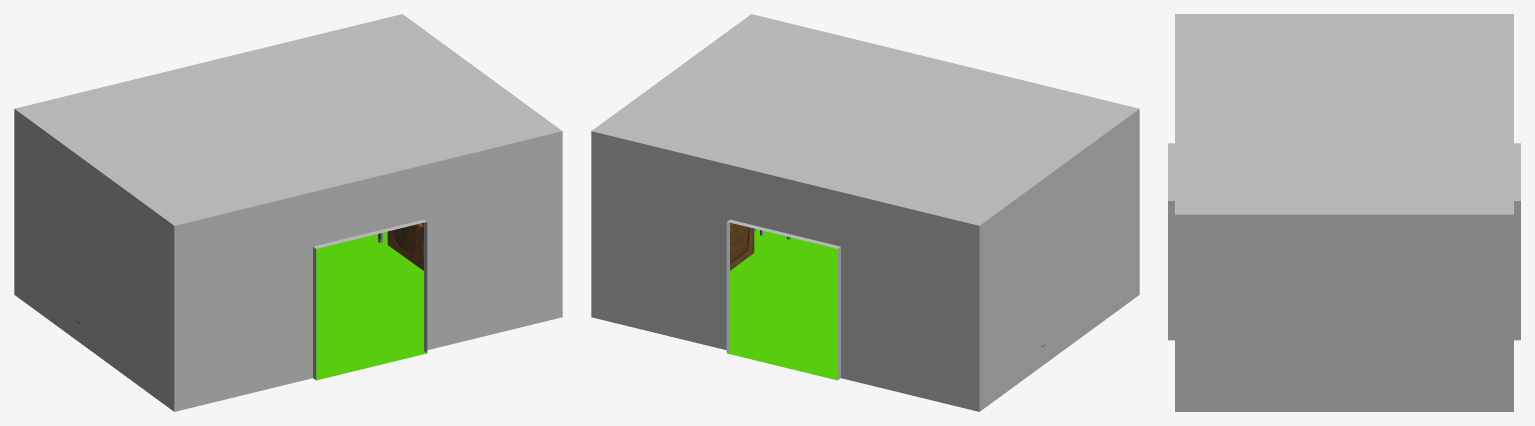
Rendered from roomsB6.fbx.
3 views of the same model, side by side, from view 1: azimuth 30°, elevation 25°; view 2: azimuth 150°, elevation 25°; view 3: azimuth 270°, elevation 25° (orthographic). The views are drawn at different scales.
Visible parts, largest first — view 1: Plane.021, Plane.019, Plane.020, Cube.242; view 2: Plane.021, Plane.019, Plane.020, Cube.242; view 3: Plane.021, Plane.019.
Boxes of the visible parts, box(x1,y1,x2,y2) form: Plane.021: box(14, 109, 562, 411); Plane.019: box(15, 14, 562, 225); Plane.020: box(316, 231, 426, 380); Cube.242: box(387, 222, 423, 270); Plane.021: box(591, 109, 1139, 411); Plane.019: box(591, 14, 1138, 225); Plane.020: box(727, 229, 837, 380); Cube.242: box(730, 222, 754, 270); Plane.021: box(1168, 143, 1520, 411); Plane.019: box(1175, 14, 1513, 214).
Bounding box in the file's own units: 700 × 322 × 520.
